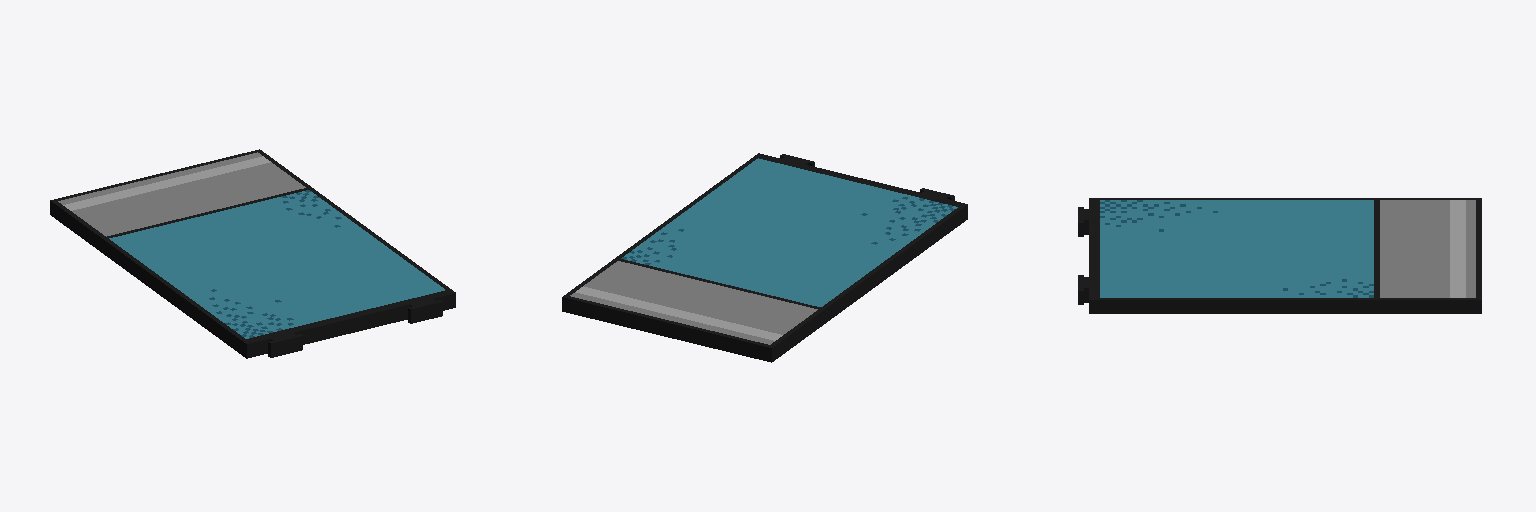
3 views of the same model, side by side, from view 1: azimuth 30°, elevation 25°; view 2: azimuth 150°, elevation 25°; view 3: azimuth 270°, elevation 25° (orthographic).
Size of the model in its own units: 45 by 3 by 75.
Materials: 1 (1 with a texture image).